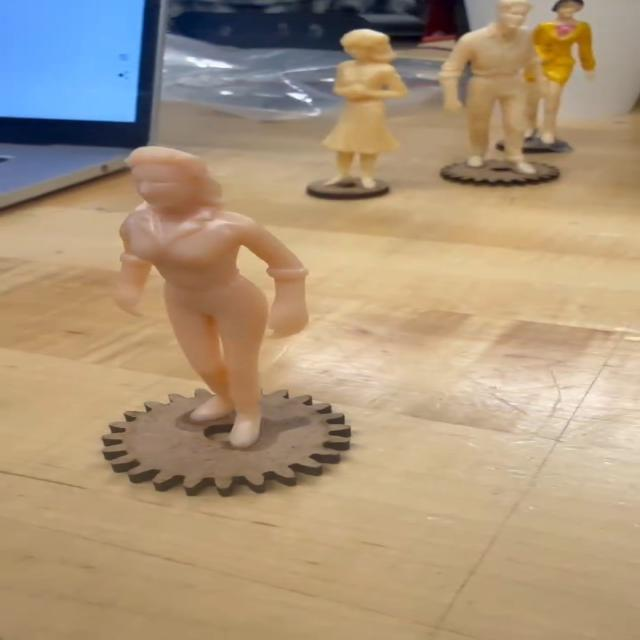Unauthorized: (90, 145, 334, 533)
